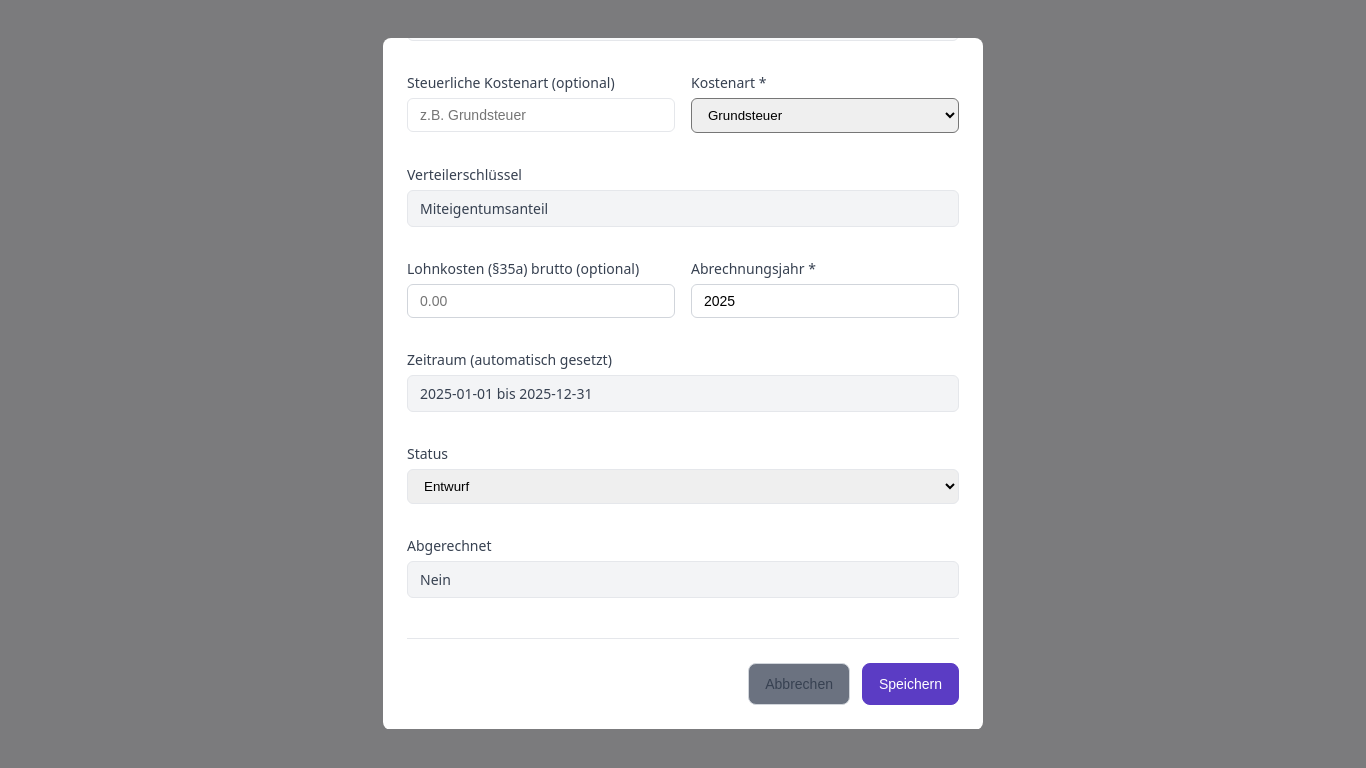
it: BelegFormModal - Unit Tests › Formular-Validierung › zeigt Fehlermeldung bei leerem Belegnamen
(page scrolled)
Note: Direkt submit ohne Eingabe
Click the button "Speichern" at [910, 684], box [862,663,959,705]
(page scrolled)
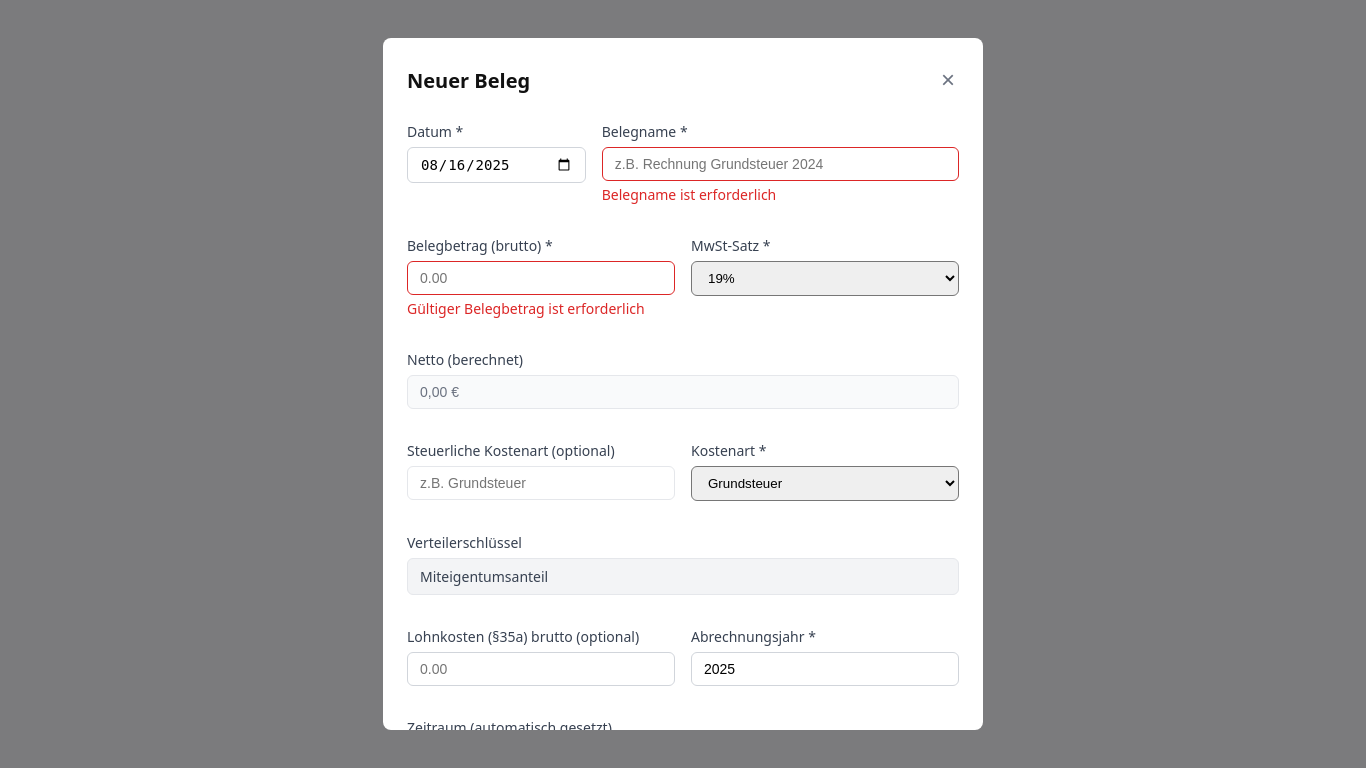
Now the text "Belegname ist erforderlich" is shown, box [602,185,776,204]
